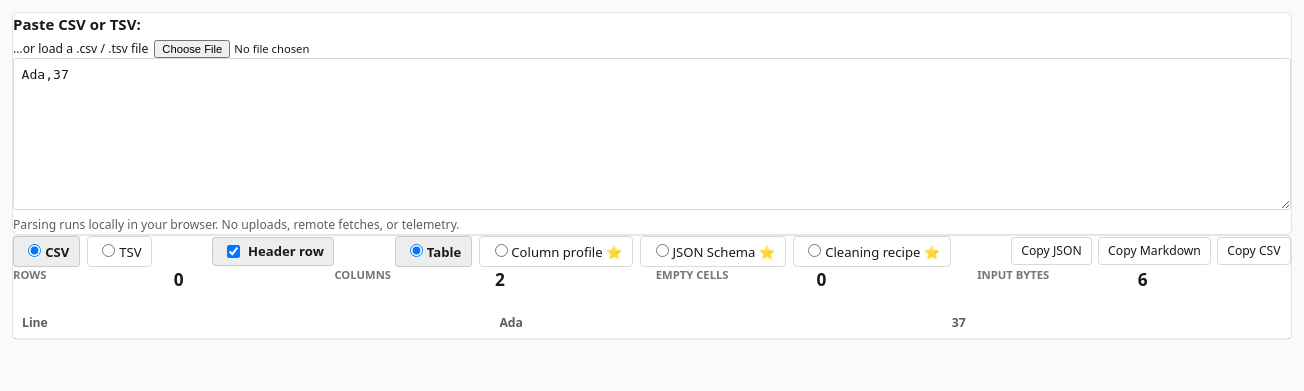
Scenario: CsvApp › can parse without a header row
The width and height of the screenshot is (1304, 391).
Click the checkbox with test id "csv-has-header".
click(233, 251)  # box top-left (227, 245), bottom-right (240, 258)
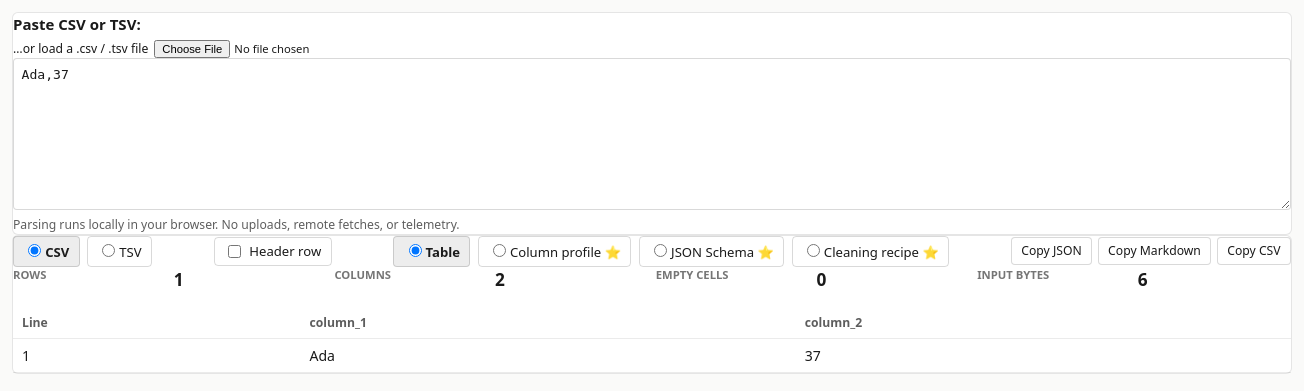
Expected: the element with test id "csv-table" shows "Ada", top-left (310, 346), bottom-right (335, 365)
Result: the element with test id "csv-table" shows "column_1" at top-left (310, 314), bottom-right (367, 331)
